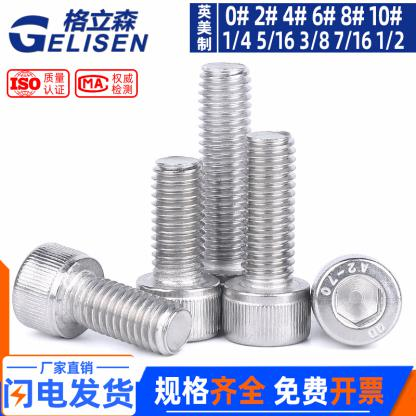FOD: (10, 240, 194, 357), (219, 129, 315, 350), (186, 60, 263, 323), (134, 155, 224, 344), (312, 250, 402, 349)
